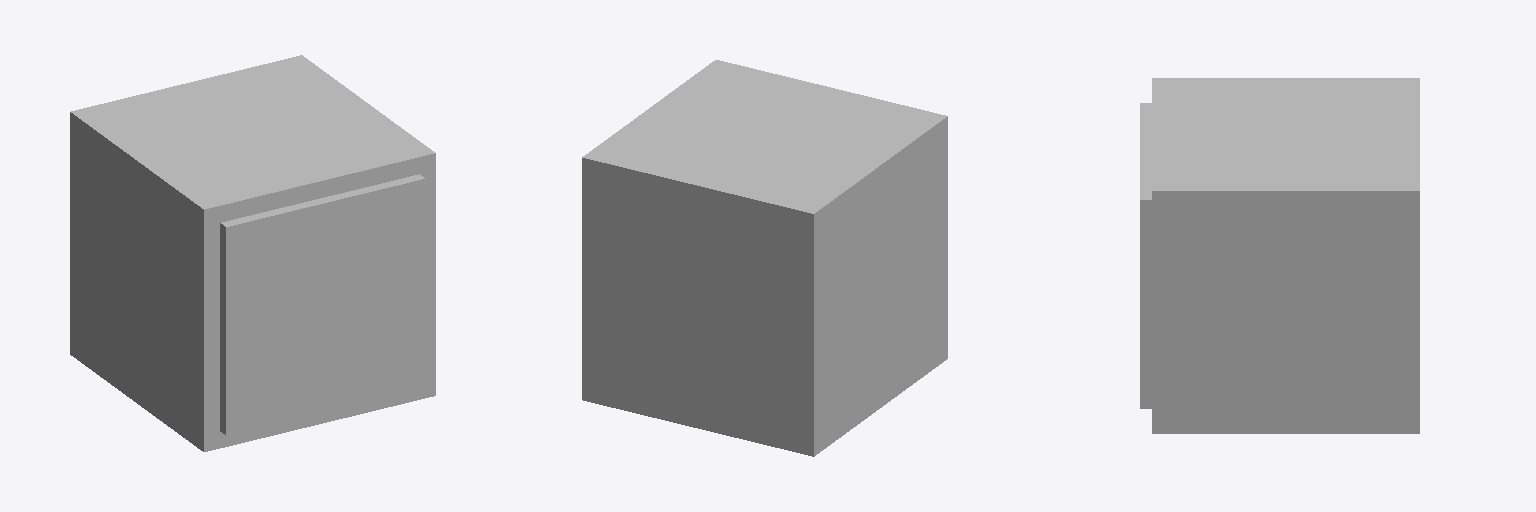
The model's file is enemy_body.obj.
The picture shows the model from 3 angles: view 1: azimuth 30°, elevation 25°; view 2: azimuth 150°, elevation 25°; view 3: azimuth 270°, elevation 25°; orthographic projection.
Visible parts, largest first — view 1: ENEMY_HONTAI:pCube1BODY, ENEMY_HONTAI:BODYpCube2; view 2: ENEMY_HONTAI:pCube1BODY; view 3: ENEMY_HONTAI:pCube1BODY, ENEMY_HONTAI:BODYpCube2.
Part boxes in pixels (left/top/right/bottom): ENEMY_HONTAI:pCube1BODY: left=70, top=55, right=435, bottom=451; ENEMY_HONTAI:BODYpCube2: left=220, top=174, right=425, bottom=435; ENEMY_HONTAI:pCube1BODY: left=582, top=60, right=947, bottom=456; ENEMY_HONTAI:pCube1BODY: left=1152, top=78, right=1419, bottom=433; ENEMY_HONTAI:BODYpCube2: left=1140, top=103, right=1151, bottom=408.
Size of the model in its own units: 1.3 by 1.3 by 1.36.